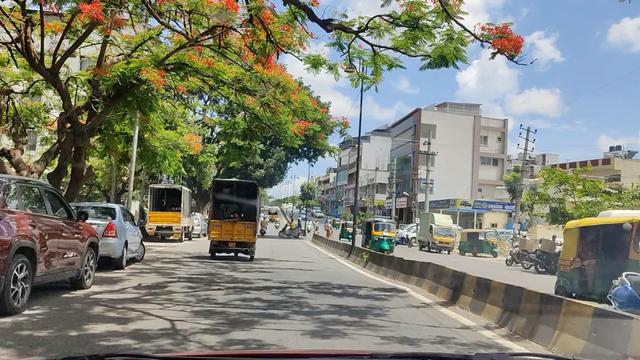HMV: (208, 174, 261, 259)
